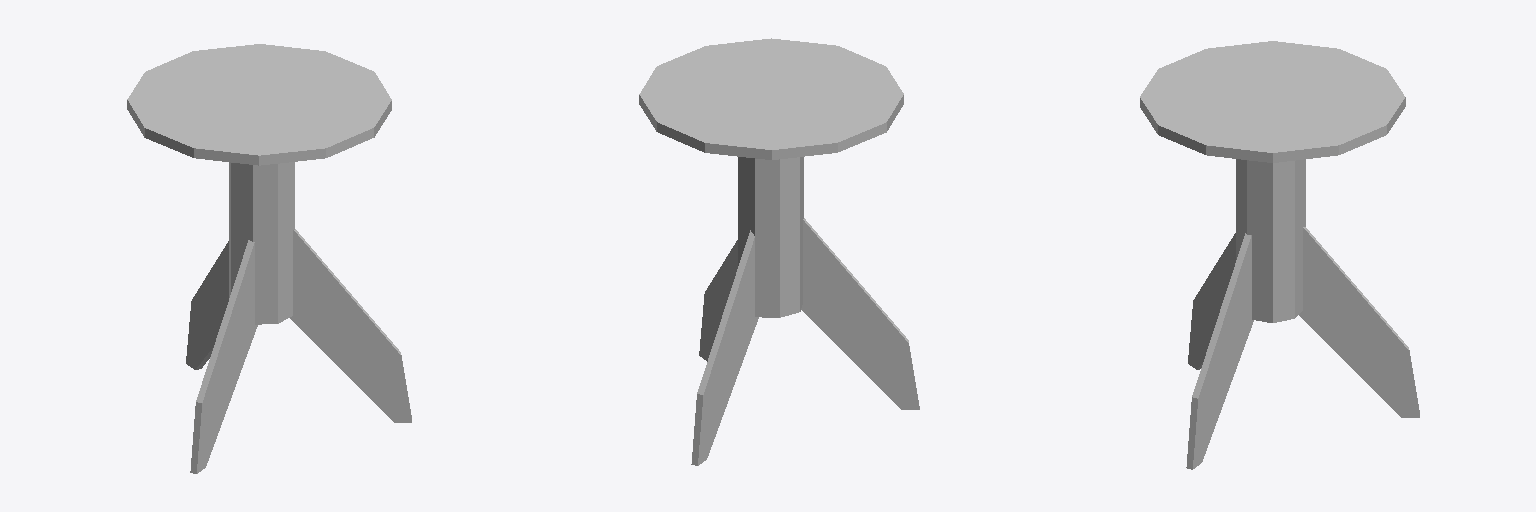
Rendered from housesp_029.obj.
3 renders of one model, left to right at view 1: azimuth 30°, elevation 25°; view 2: azimuth 150°, elevation 25°; view 3: azimuth 270°, elevation 25°, orthographic.
Bounding box in the file's own units: 35.6 × 47.01 × 37.6.